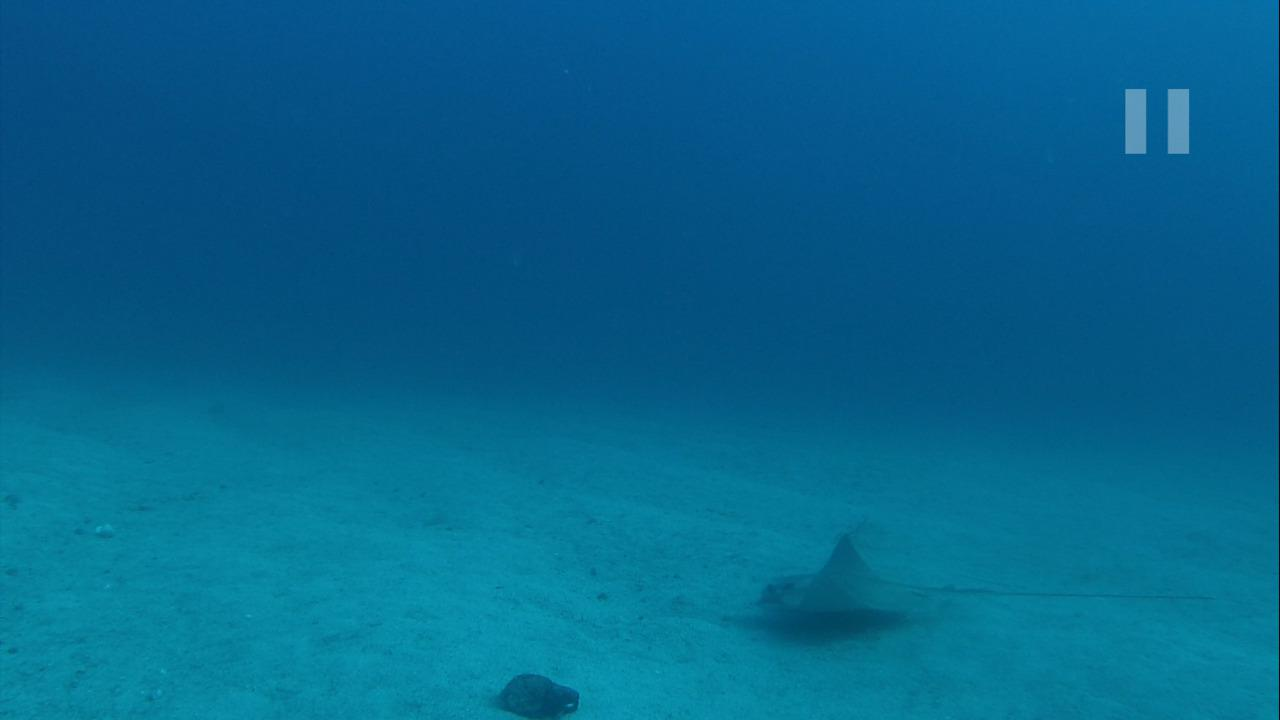myliobatis: (747, 524, 1253, 631)
